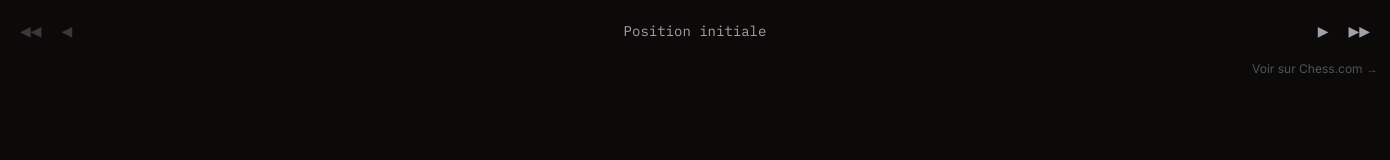
Test case: BoardViewer — avec PGN › revient au début sur ◀◀ après navigation
Click the button named "fin".
click(1359, 30)  # box [1340, 16, 1378, 45]
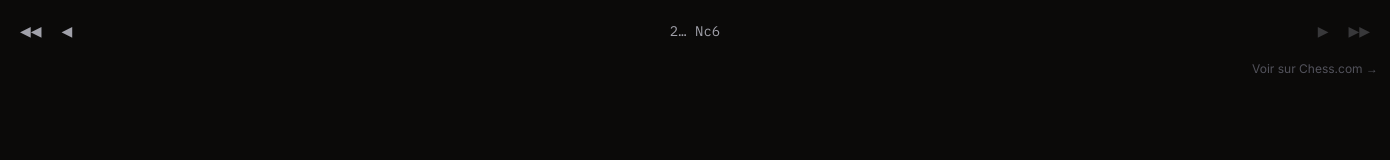
Click the button named "début".
click(31, 30)  # box [12, 16, 50, 45]
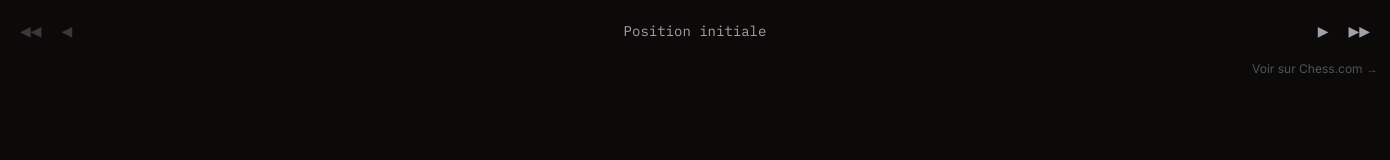
Check: the text "Position initiale" is shown, box [624, 22, 766, 40]
